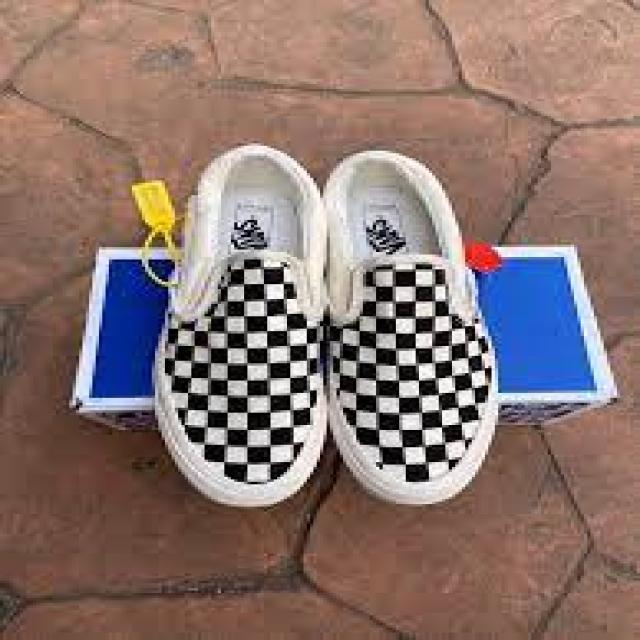shoe: (153, 130, 512, 520), (318, 135, 510, 504), (166, 141, 330, 501)
